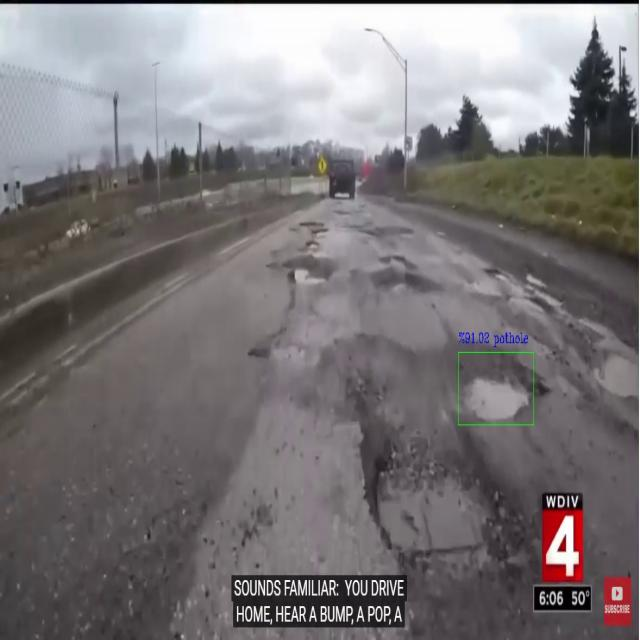pothole: (365, 435, 539, 585), (460, 357, 533, 419), (266, 254, 336, 291), (369, 266, 444, 300)
